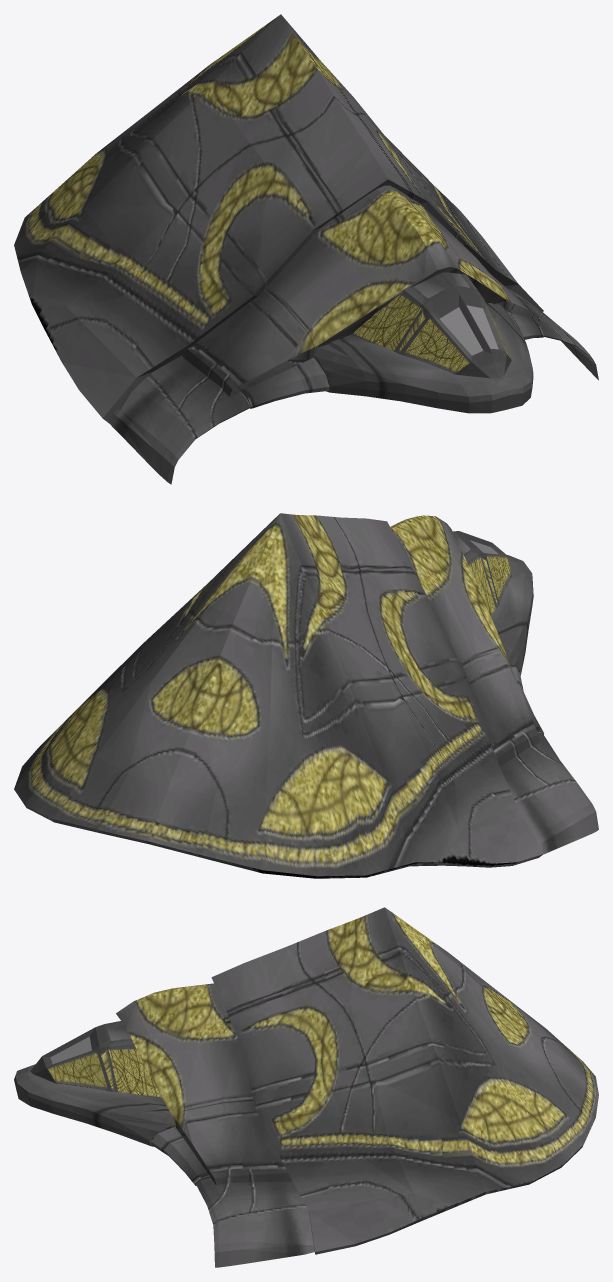
The model's file is teleak.obj.
3 renders of one model, top to bottom at view 1: azimuth 30°, elevation 25°; view 2: azimuth 150°, elevation 25°; view 3: azimuth 270°, elevation 25°, orthographic. The views are drawn at different scales.
Bounding box in the file's own units: 1751 × 1295 × 2484.
1 material, 1 textured.
